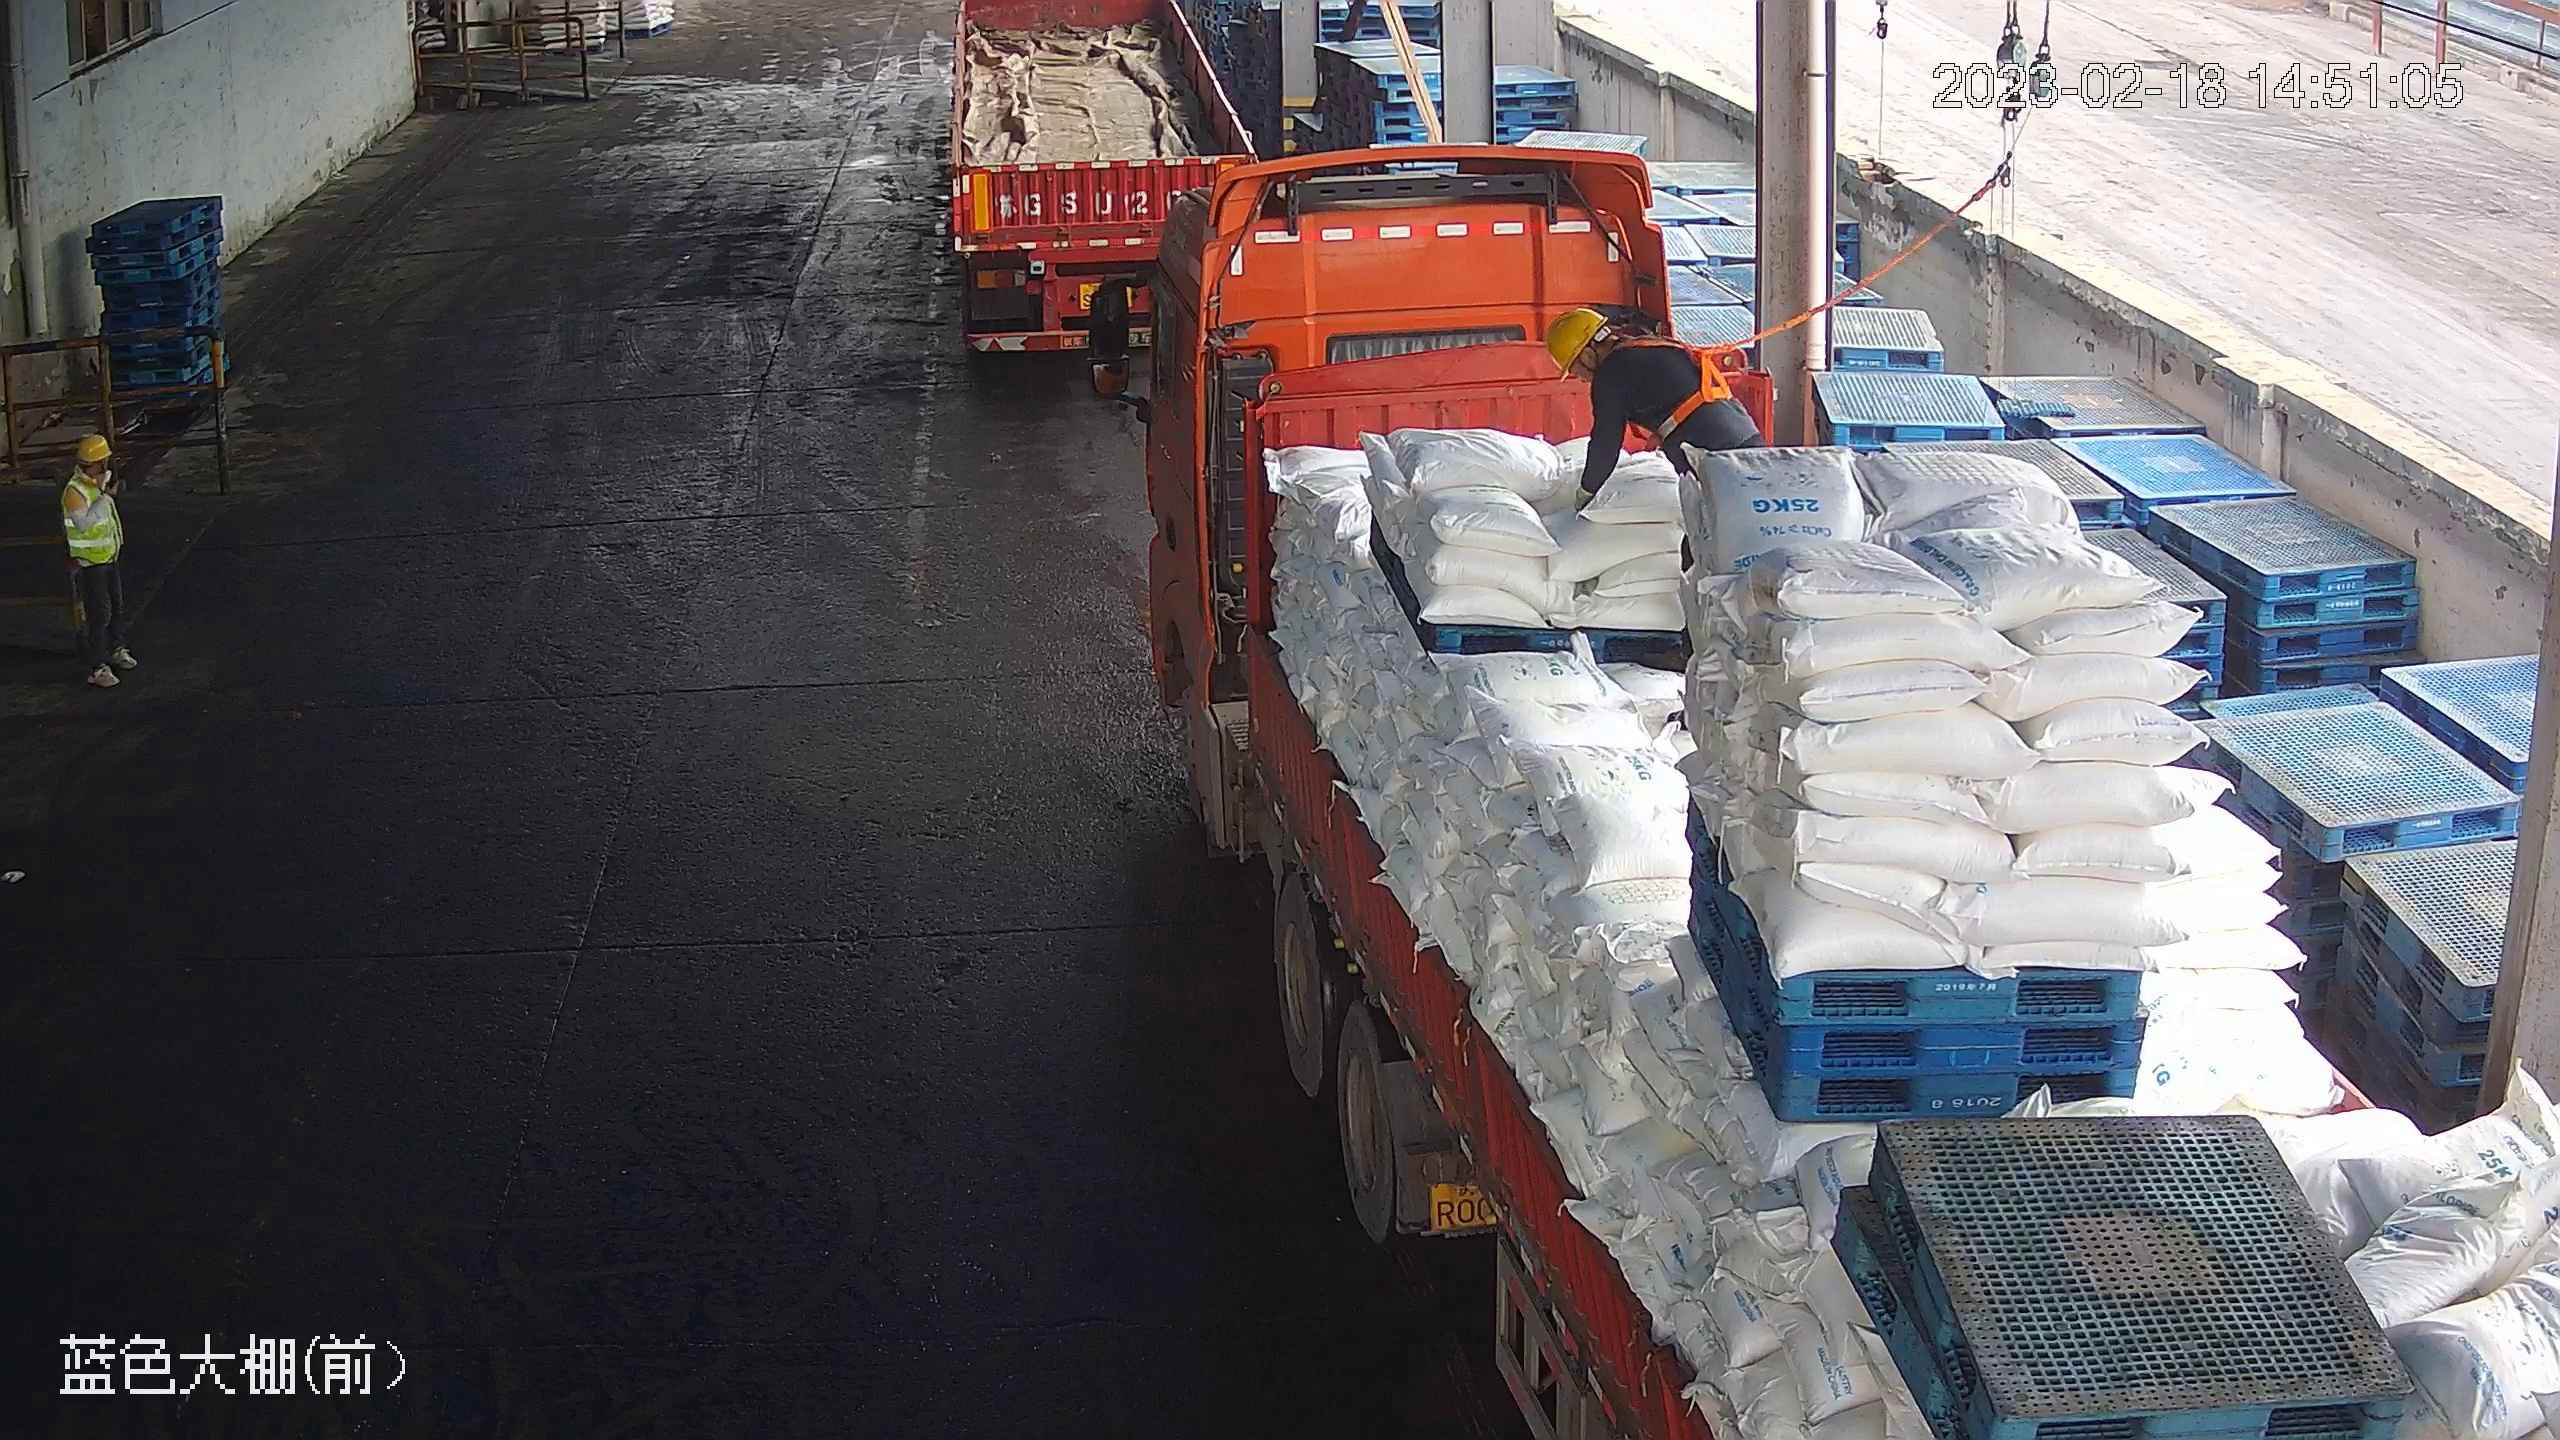belt: (1618, 329, 1733, 436)
head: (1544, 304, 1686, 400), (61, 431, 127, 509)
helmet: (1542, 305, 1608, 377), (78, 430, 117, 461)
people: (1542, 302, 1769, 591), (55, 427, 138, 699)
truck: (1074, 164, 2558, 1440), (936, 6, 1262, 373)
